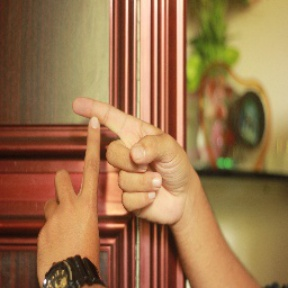T: (42, 87, 156, 225)
